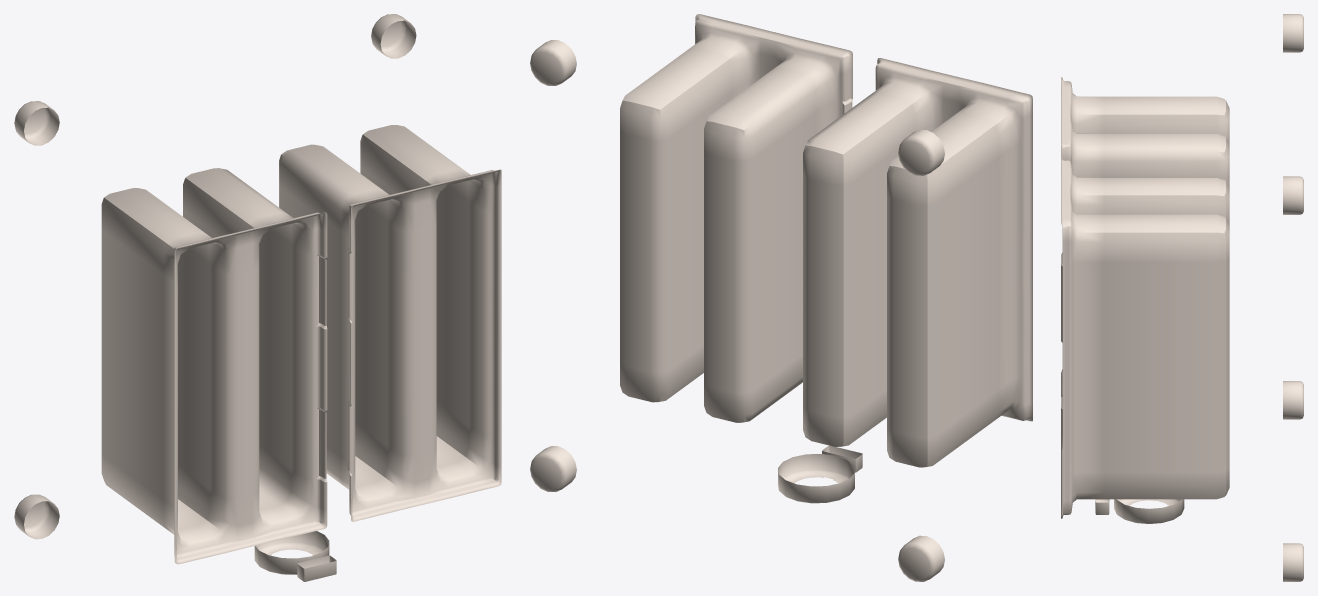
File: MeshToaster_29_0_GeomSubset_2.obj
3 renders of one model, left to right at view 1: azimuth 30°, elevation 25°; view 2: azimuth 150°, elevation 25°; view 3: azimuth 270°, elevation 25°, orthographic. The views are drawn at different scales.
Visible parts, largest first — view 1: MeshToaster_29_0_GeomSubset_2; view 2: MeshToaster_29_0_GeomSubset_2; view 3: MeshToaster_29_0_GeomSubset_2.
Boxes of the visible parts, x1,y1,x2,y2 form: MeshToaster_29_0_GeomSubset_2: (14, 14, 501, 581); MeshToaster_29_0_GeomSubset_2: (530, 14, 1032, 581); MeshToaster_29_0_GeomSubset_2: (1061, 14, 1303, 581).
Bounding box in the file's own units: 0.2977 × 0.3206 × 0.171.
